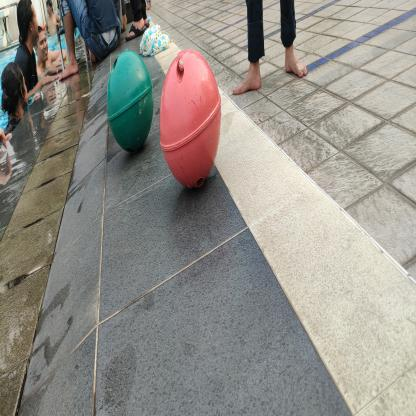green_buoy: (106, 48, 156, 158)
red_buoy: (158, 47, 223, 192)
